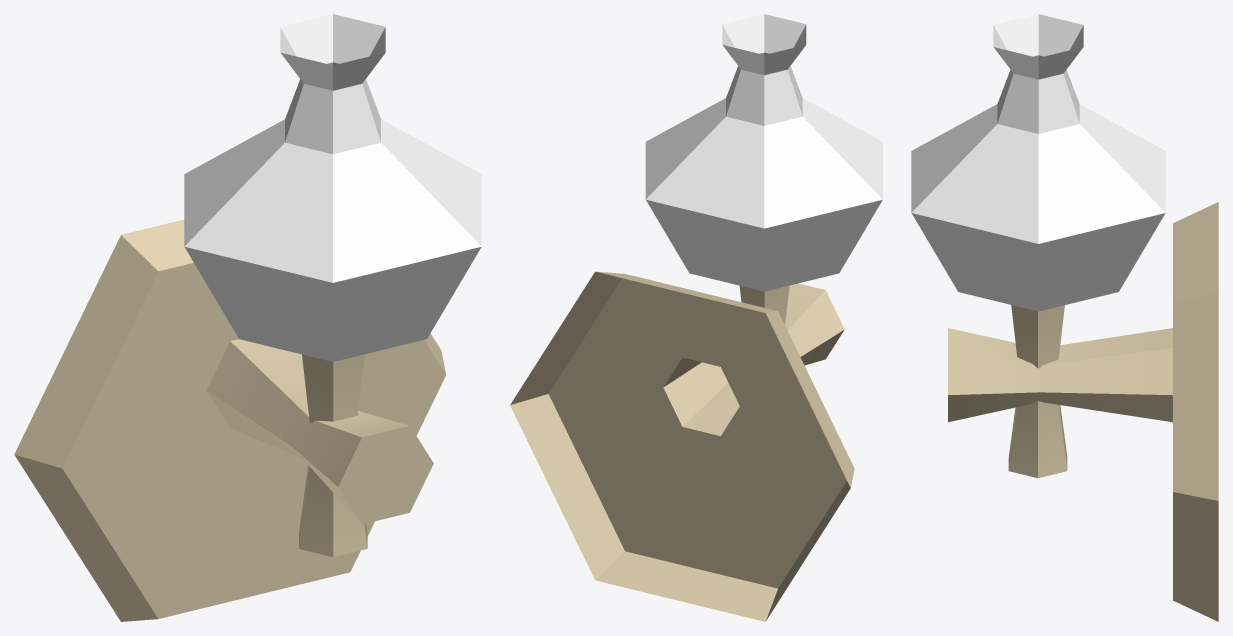
File: Lamp.fbx
3 views of the same model, side by side, from view 1: azimuth 30°, elevation 25°; view 2: azimuth 150°, elevation 25°; view 3: azimuth 270°, elevation 25° (orthographic). The views are drawn at different scales.
Parts seen in each view (by area): view 1: polySurface2; view 2: polySurface2; view 3: polySurface2.
Part boxes in pixels (x1,y1,x2,y2): polySurface2: (14,14,481,621); polySurface2: (510,14,882,621); polySurface2: (911,14,1218,621).
Size of the model in its own units: 2 by 2.83 by 1.46.
